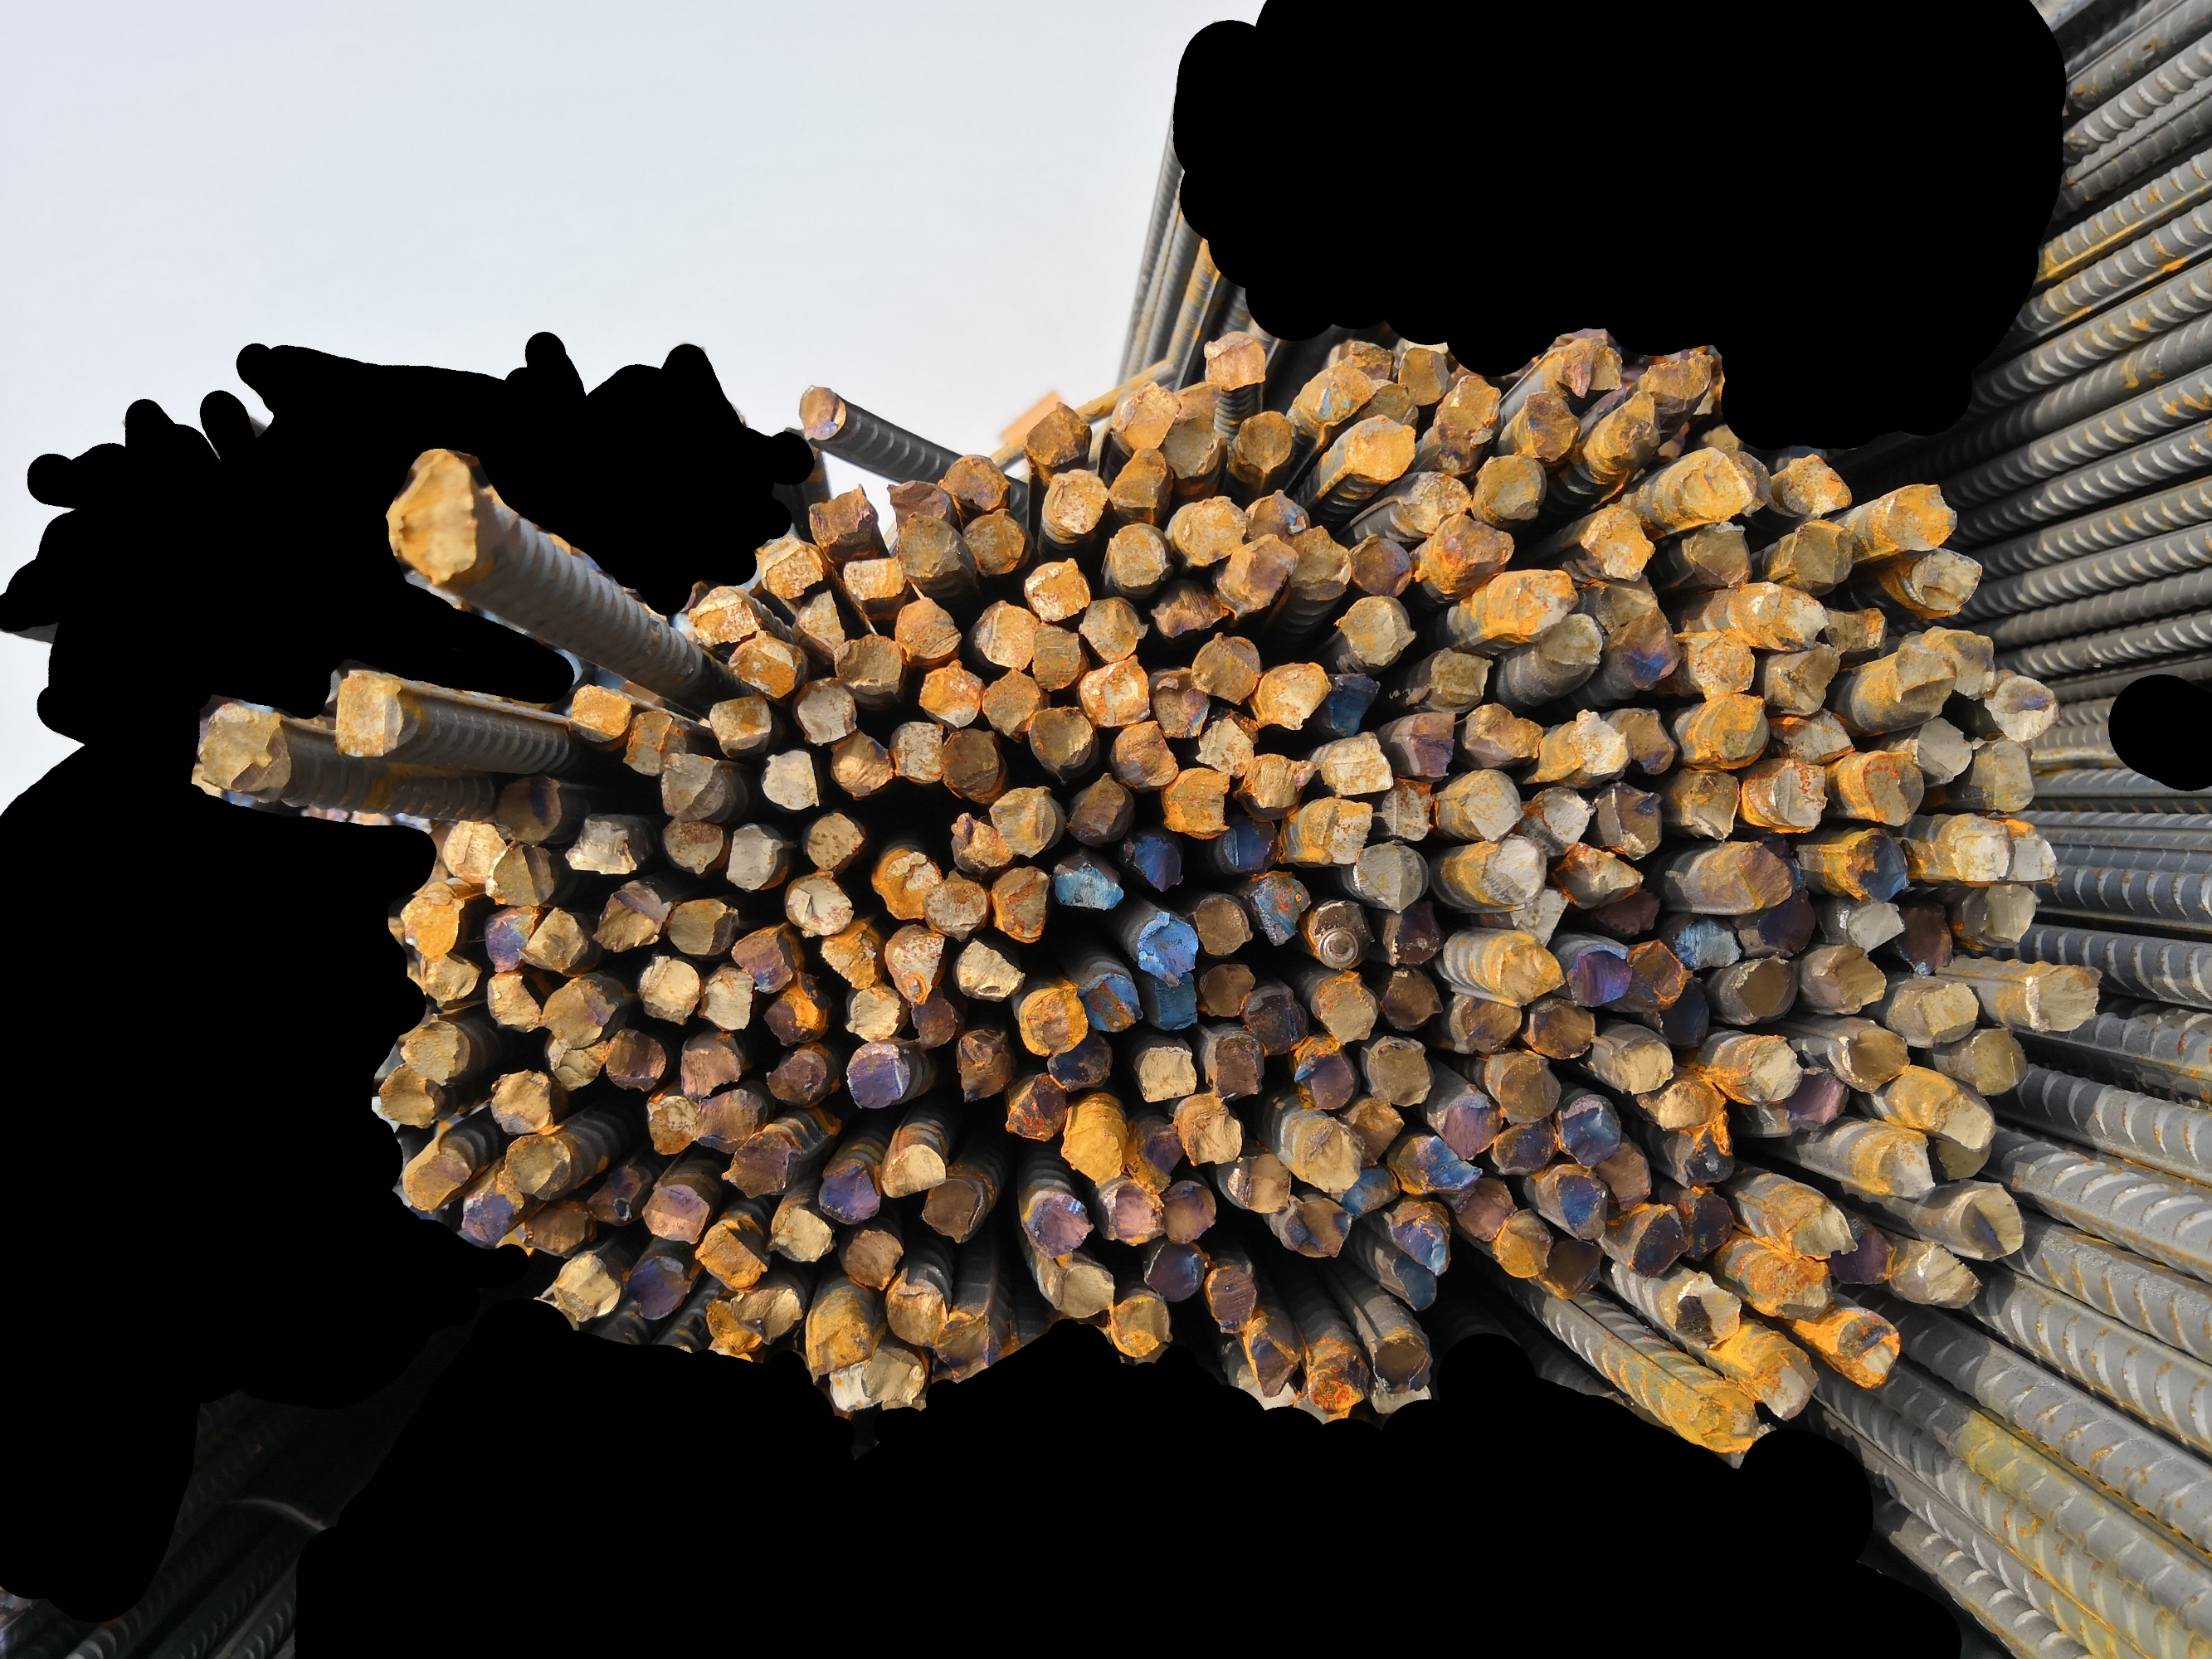rebar: (385, 448, 495, 599), (193, 699, 302, 805), (331, 667, 424, 769), (1952, 1176, 2027, 1263), (1553, 840, 1645, 908), (1694, 690, 1773, 769), (1517, 784, 1598, 859), (493, 1133, 582, 1201), (1351, 838, 1429, 915), (593, 878, 673, 953), (1579, 507, 1659, 582), (1879, 477, 1959, 552), (1881, 640, 1956, 720), (488, 774, 570, 847), (401, 1136, 474, 1218), (1673, 446, 1757, 518), (1333, 596, 1419, 666), (1673, 1267, 1743, 1352), (397, 1011, 472, 1089), (1224, 533, 1299, 612), (1750, 577, 1829, 652), (2025, 958, 2104, 1033), (1902, 547, 1984, 619), (540, 978, 619, 1051), (1253, 659, 1332, 732), (718, 1131, 802, 1199), (870, 845, 943, 922), (1755, 758, 1829, 835), (1832, 829, 1910, 901), (1830, 1310, 1902, 1389), (397, 880, 467, 960), (1612, 608, 1680, 690), (1234, 749, 1318, 816), (549, 1251, 622, 1326), (967, 598, 1041, 673), (896, 511, 971, 584), (1175, 493, 1248, 568), (1292, 1117, 1365, 1192), (1768, 641, 1841, 716), (725, 629, 802, 701), (987, 784, 1058, 861), (1161, 763, 1232, 840), (1339, 415, 1417, 484), (1295, 796, 1374, 866), (1609, 701, 1679, 779), (1504, 568, 1583, 638), (1752, 1342, 1822, 1420), (1436, 512, 1517, 580), (1984, 674, 2064, 742), (1776, 1190, 1856, 1258), (563, 810, 645, 877), (1912, 1241, 1985, 1314), (624, 1248, 695, 1323), (694, 1218, 769, 1290), (1593, 389, 1663, 465), (1928, 626, 1998, 702), (1316, 728, 1394, 796), (1856, 748, 1924, 826), (1297, 359, 1377, 425), (1600, 781, 1666, 861), (518, 903, 589, 976), (807, 483, 879, 556), (833, 633, 906, 704), (1016, 983, 1088, 1056), (1077, 655, 1150, 727), (1722, 838, 1795, 910), (1733, 1032, 1804, 1105), (1478, 831, 1548, 906), (1245, 871, 1313, 948), (1065, 772, 1133, 849), (1191, 631, 1262, 702), (804, 1305, 873, 1378), (1243, 985, 1313, 1058), (1159, 410, 1229, 483), (1398, 1134, 1482, 1195), (1867, 1127, 1937, 1201), (1077, 594, 1152, 662), (1839, 1023, 1916, 1089), (882, 925, 947, 1004), (1396, 469, 1475, 533), (438, 817, 509, 887), (959, 505, 1030, 575), (1435, 1089, 1504, 1161), (1494, 932, 1564, 1004), (1478, 451, 1550, 521), (377, 1061, 450, 1129), (917, 657, 985, 730), (1386, 1204, 1454, 1277), (1780, 450, 1853, 518), (1947, 812, 2015, 885), (779, 870, 854, 936), (694, 1087, 769, 1154), (1457, 767, 1523, 842), (1781, 519, 1856, 586), (1973, 739, 2039, 814), (1785, 1066, 1851, 1141), (988, 864, 1051, 943), (1640, 347, 1719, 410), (1905, 714, 1975, 784), (1131, 908, 1199, 979), (1021, 399, 1093, 467), (1109, 720, 1180, 788), (1367, 1035, 1435, 1107), (1536, 612, 1604, 683), (486, 1070, 560, 1136), (638, 1178, 711, 1244), (791, 674, 858, 748), (830, 728, 896, 802), (1192, 706, 1259, 779), (1623, 1204, 1689, 1277), (1471, 701, 1544, 767), (1764, 1253, 1837, 1319), (1963, 1023, 2029, 1096), (1822, 943, 1888, 1016), (636, 951, 701, 1026), (950, 938, 1025, 1002), (1313, 969, 1377, 1044), (1288, 523, 1351, 599), (1147, 579, 1231, 636), (519, 1199, 598, 1260), (458, 1175, 526, 1244), (659, 751, 727, 821), (845, 1040, 913, 1110), (1028, 706, 1096, 775), (1105, 521, 1173, 591), (1565, 938, 1633, 1007), (1691, 629, 1759, 699), (933, 1312, 1004, 1378), (1020, 556, 1091, 622), (1567, 706, 1633, 777), (1924, 1086, 1996, 1152), (1916, 976, 1982, 1047), (486, 843, 560, 908), (757, 535, 830, 599), (1020, 1192, 1093, 1256), (1220, 1150, 1293, 1215), (1602, 1030, 1675, 1094), (1555, 336, 1628, 401), (981, 666, 1044, 741), (1754, 885, 1816, 960), (1429, 403, 1490, 479), (1149, 664, 1210, 741), (1548, 1166, 1609, 1243), (1679, 1112, 1738, 1190), (622, 709, 690, 777), (919, 1175, 987, 1243), (1112, 380, 1178, 450), (1731, 957, 1801, 1023), (1691, 1385, 1761, 1452), (689, 584, 760, 648), (892, 596, 964, 660), (938, 728, 1002, 800), (1281, 1195, 1353, 1260), (1520, 389, 1583, 462), (760, 971, 821, 1046), (729, 1283, 804, 1344), (762, 1047, 838, 1107), (1679, 1187, 1736, 1265), (1042, 467, 1109, 535), (1379, 899, 1445, 967), (1557, 1098, 1623, 1166), (1829, 1222, 1895, 1290), (730, 925, 795, 995), (1295, 1042, 1360, 1112), (1497, 1054, 1562, 1124), (1691, 519, 1755, 589), (657, 816, 729, 878), (924, 870, 987, 941), (1342, 1096, 1405, 1168), (953, 1032, 1014, 1105), (1630, 936, 1691, 1009), (666, 897, 741, 957), (1668, 913, 1745, 971), (1367, 1330, 1433, 1396), (706, 694, 774, 758), (816, 922, 884, 986), (1203, 328, 1271, 392), (1349, 528, 1414, 596), (1379, 965, 1443, 1033), (565, 681, 634, 744), (879, 1136, 948, 1199), (1311, 897, 1374, 967), (1426, 645, 1496, 708), (1778, 706, 1856, 762), (1980, 882, 2043, 951), (1140, 1241, 1211, 1302), (1492, 1206, 1553, 1277), (938, 451, 1011, 511), (1682, 767, 1741, 840), (1640, 1077, 1726, 1127), (478, 904, 542, 971), (884, 1283, 948, 1349), (1060, 1114, 1124, 1180), (1231, 411, 1295, 477), (1107, 450, 1170, 518), (765, 1202, 835, 1263), (1006, 1072, 1067, 1141), (1046, 1032, 1116, 1093), (1527, 999, 1597, 1060), (1398, 709, 1457, 781), (818, 1159, 882, 1223), (861, 1342, 926, 1406), (840, 1227, 905, 1291), (1135, 1040, 1199, 1105), (1191, 892, 1255, 957), (1123, 828, 1187, 892), (1218, 810, 1283, 875), (1508, 885, 1572, 950), (1110, 1293, 1173, 1359), (1096, 1180, 1163, 1243), (725, 823, 784, 892), (676, 1037, 746, 1096), (1243, 484, 1313, 544), (1595, 1138, 1652, 1209), (1652, 978, 1710, 1049), (1898, 903, 1956, 974), (605, 1026, 668, 1091), (758, 748, 821, 812), (1307, 1349, 1370, 1413), (1075, 971, 1142, 1032), (415, 948, 483, 1007), (1159, 1176, 1218, 1244), (1128, 1122, 1185, 1192), (1208, 1030, 1265, 1100), (1044, 1262, 1116, 1317), (542, 1030, 607, 1091), (802, 810, 866, 871), (1178, 1105, 1243, 1166), (1457, 993, 1522, 1054), (947, 812, 1013, 871), (1455, 1176, 1515, 1243), (1206, 1262, 1259, 1337), (1379, 777, 1436, 845), (887, 718, 943, 788), (1032, 622, 1088, 692), (1325, 667, 1381, 737), (1053, 861, 1126, 913), (795, 382, 854, 446), (1333, 1161, 1400, 1218), (1595, 572, 1661, 629), (699, 964, 755, 1032), (1837, 897, 1907, 951), (1593, 882, 1665, 934), (1541, 1239, 1604, 1298), (485, 972, 542, 1037), (641, 1091, 699, 1155), (1438, 375, 1503, 432), (1494, 1117, 1558, 1175), (1396, 343, 1452, 410), (586, 1166, 645, 1227), (1381, 1251, 1440, 1312), (884, 477, 955, 528), (1252, 1326, 1300, 1399), (2008, 817, 2060, 885), (1198, 960, 1257, 1019), (842, 986, 908, 1039), (1727, 441, 1774, 514), (704, 1295, 762, 1354), (795, 589, 845, 655), (1930, 1133, 1998, 1182), (842, 554, 906, 605), (1823, 603, 1890, 652), (1147, 971, 1199, 1032), (1360, 376, 1417, 429), (908, 995, 960, 1051), (824, 1359, 880, 1412), (1170, 380, 1224, 429), (1346, 338, 1393, 380)
